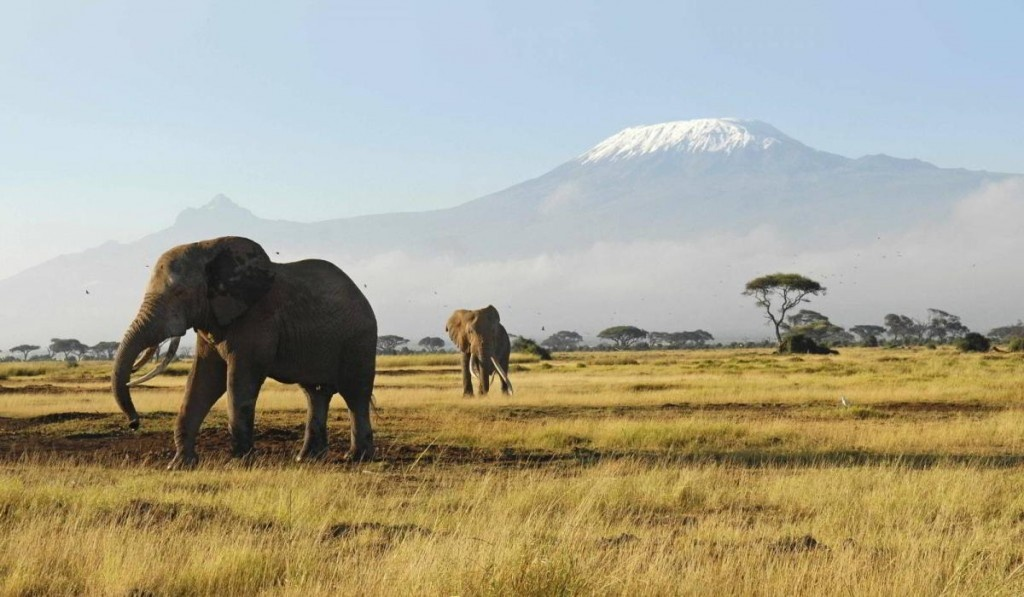elephant: (247, 342, 527, 563), (476, 352, 553, 451)
